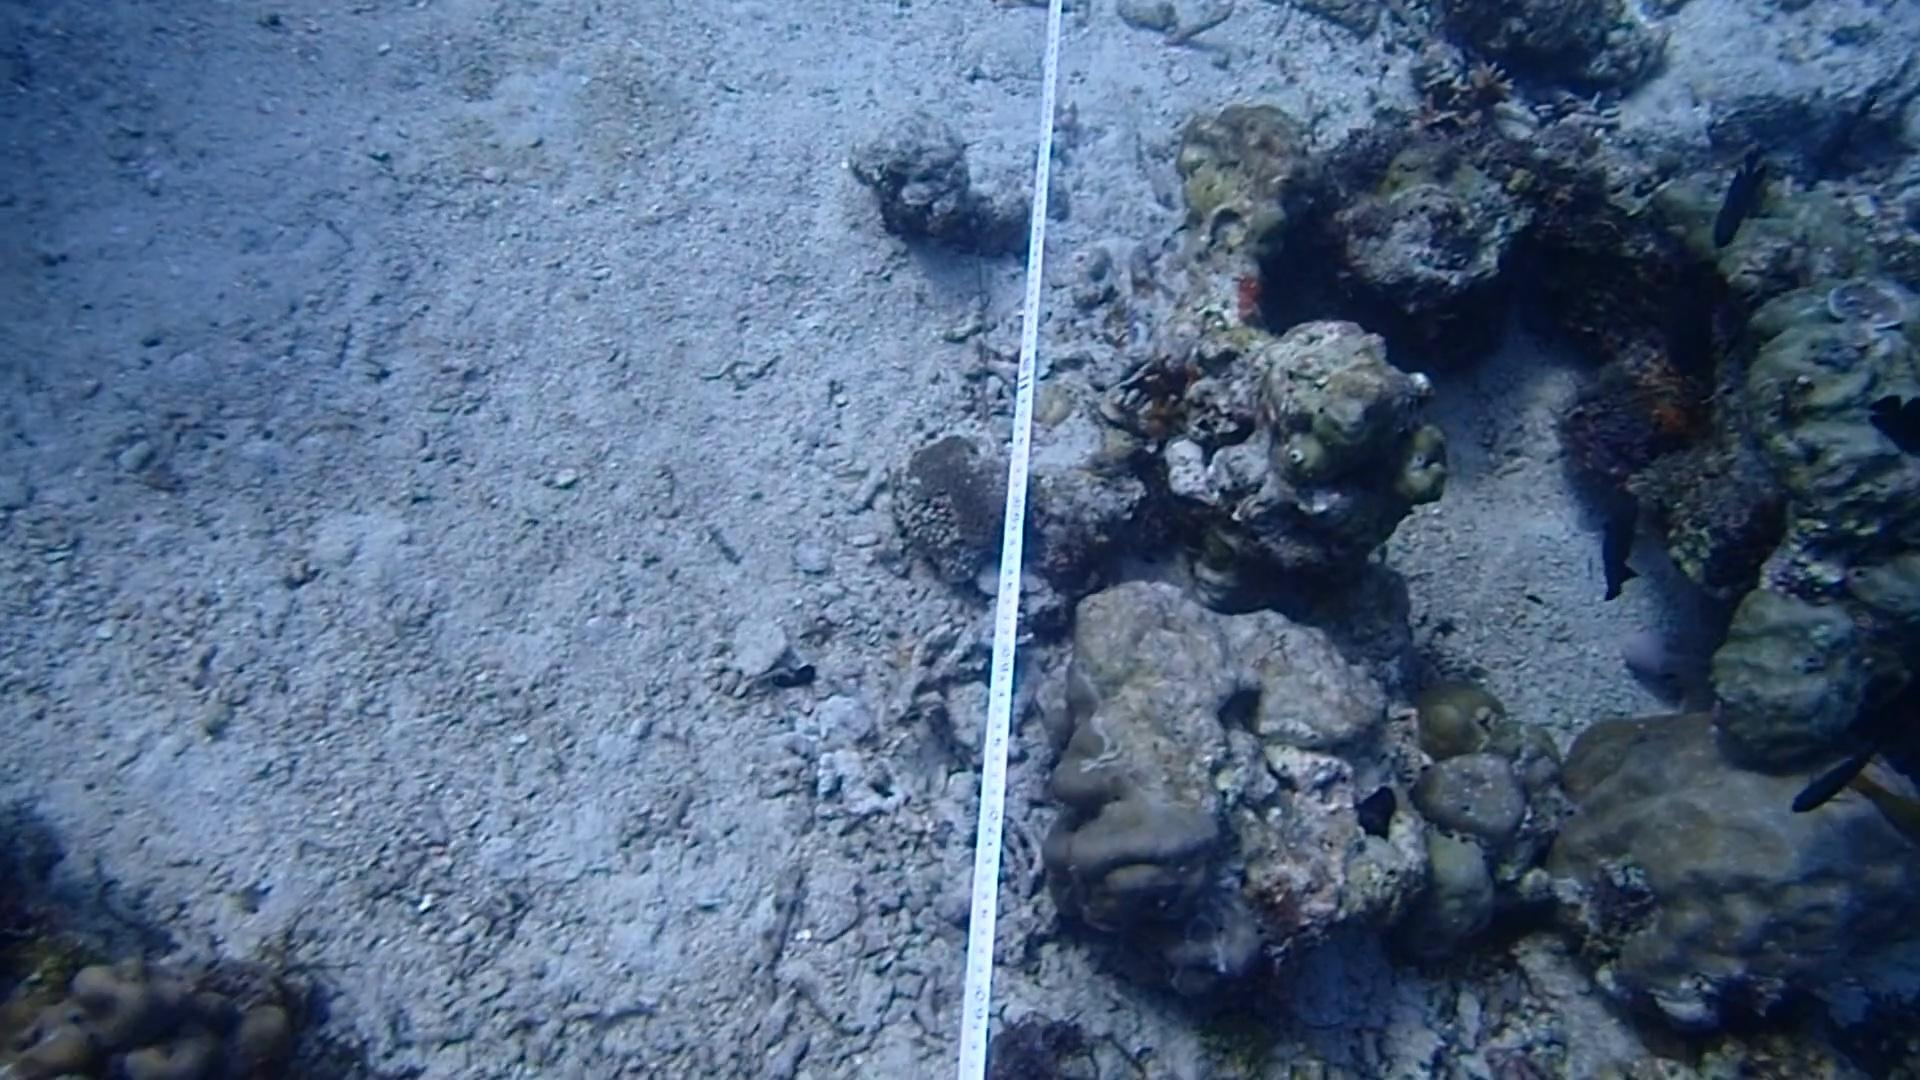Dark Fish: (1770, 724, 1884, 822), (1698, 146, 1779, 266), (1584, 472, 1655, 601), (1853, 376, 1920, 458)
